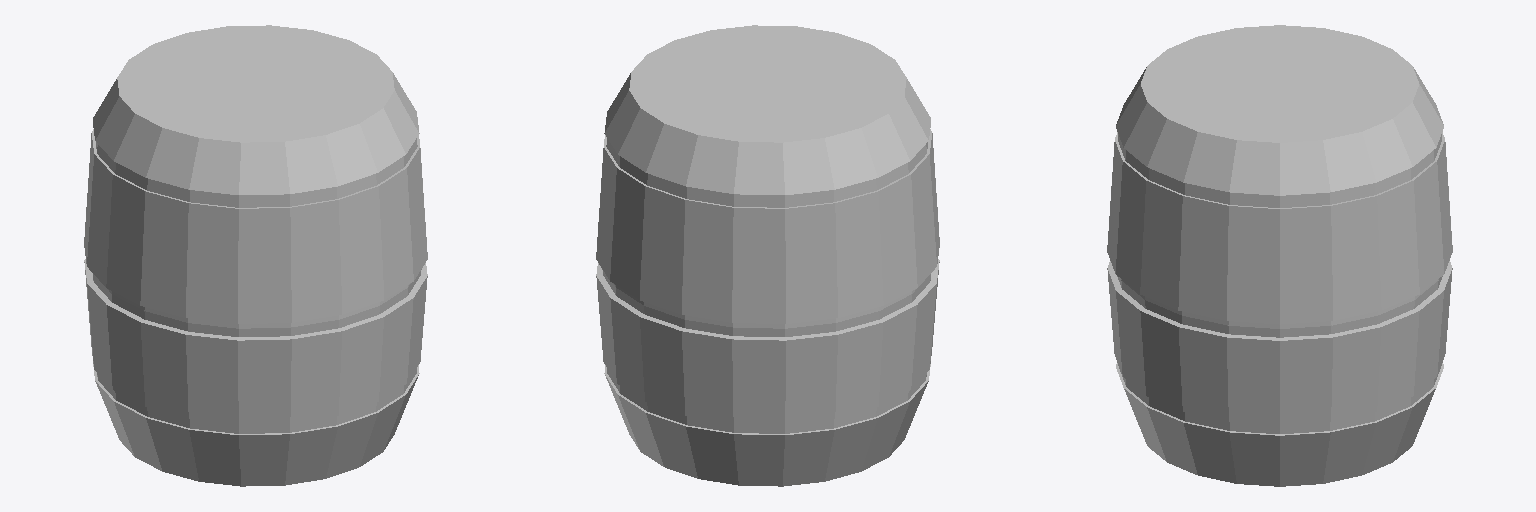
The model's file is RoundCrate.obj.
The picture shows the model from 3 angles: view 1: azimuth 30°, elevation 25°; view 2: azimuth 150°, elevation 25°; view 3: azimuth 270°, elevation 25°; orthographic projection.
Parts seen in each view (by area): view 1: pCylinder1; view 2: pCylinder1; view 3: pCylinder1.
Part boxes in pixels (x1,y1,x2,y2): pCylinder1: (84, 25, 427, 486); pCylinder1: (596, 25, 939, 486); pCylinder1: (1107, 25, 1452, 486).
Bounding box in the file's own units: 1.21 × 1.33 × 1.21.